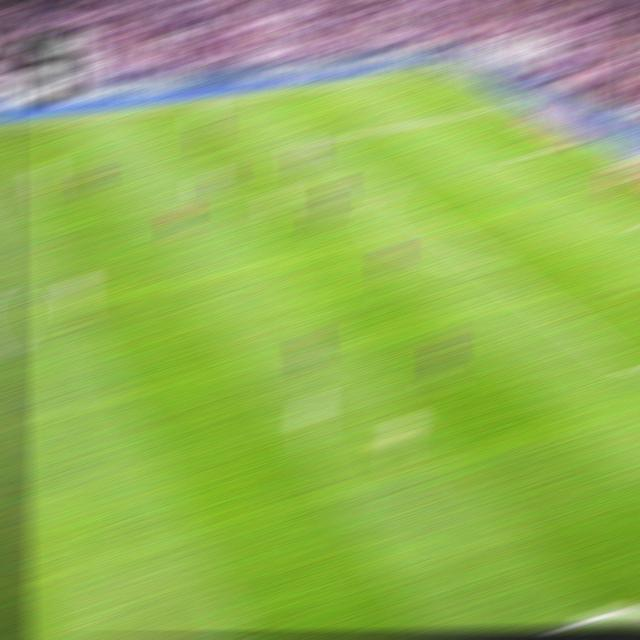bigarea_bottom_inner: (617, 355, 640, 377)
bigarea_top_inner: (311, 132, 333, 143)
bottom_arc_area_intersection: (480, 259, 505, 274)
corner: (411, 66, 434, 73)
smallarea_top_inner: (502, 153, 521, 159)
top_arc_area_intersection: (378, 184, 401, 195)
